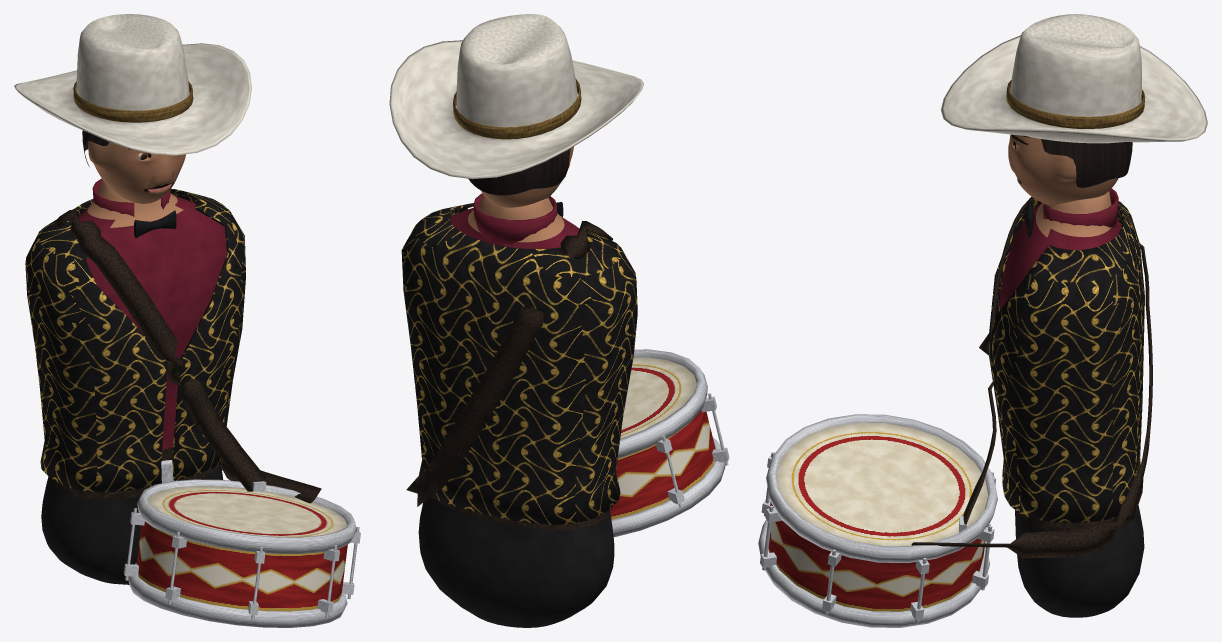
The model's file is torso.obj.
3 renders of one model, left to right at view 1: azimuth 30°, elevation 25°; view 2: azimuth 150°, elevation 25°; view 3: azimuth 270°, elevation 25°, orthographic. The views are drawn at different scales.
Parts seen in each view (by area): view 1: tarola_Tarola, tarola_Chaleco, tarola_Sombrero, tarola_Torso, tarola_Cabeza, tarola_Cuello, tarola_Mono; view 2: tarola_Chaleco, tarola_Sombrero, tarola_Tarola, tarola_Torso, tarola_Pelo, tarola_Cuello, tarola_Cabeza; view 3: tarola_Tarola, tarola_Chaleco, tarola_Sombrero, tarola_Torso, tarola_Cabeza, tarola_Pelo, tarola_Cuello.
Boxes of the visible parts, x1,y1,x2,y2 form: tarola_Tarola: (52, 210, 360, 627); tarola_Chaleco: (25, 188, 245, 492); tarola_Sombrero: (14, 14, 251, 155); tarola_Torso: (41, 179, 227, 584); tarola_Cabeza: (88, 141, 185, 203); tarola_Cuello: (92, 178, 170, 216); tarola_Mono: (134, 210, 176, 238); tarola_Chaleco: (401, 203, 637, 524); tarola_Sombrero: (389, 14, 643, 179); tarola_Tarola: (406, 221, 729, 537); tarola_Torso: (418, 194, 614, 627); tarola_Pelo: (468, 148, 570, 195); tarola_Cuello: (473, 193, 556, 244); tarola_Cabeza: (480, 146, 573, 207); tarola_Tarola: (758, 196, 1152, 627); tarola_Chaleco: (988, 198, 1144, 522); tarola_Sombrero: (941, 14, 1207, 143); tarola_Torso: (999, 191, 1144, 617); tarola_Cabeza: (1008, 134, 1118, 204); tarola_Pelo: (1022, 135, 1132, 187); tarola_Cuello: (1043, 188, 1118, 227).
Size of the model in its own units: 0.4292 by 1.03 by 0.7332.
19 materials, 19 textured.
